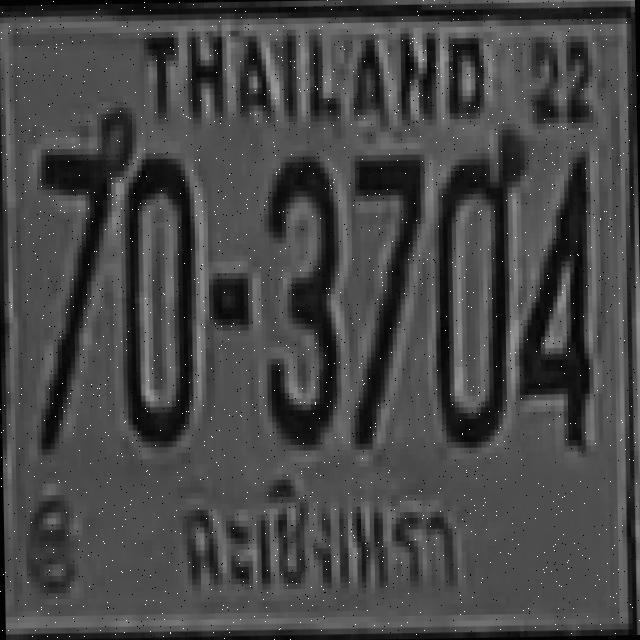0: (428, 146, 524, 442), (116, 152, 196, 442)
3: (258, 152, 337, 442)
4: (510, 148, 590, 444)
7: (346, 148, 424, 444), (350, 148, 422, 328)
Chachoengsao: (162, 468, 472, 604)
